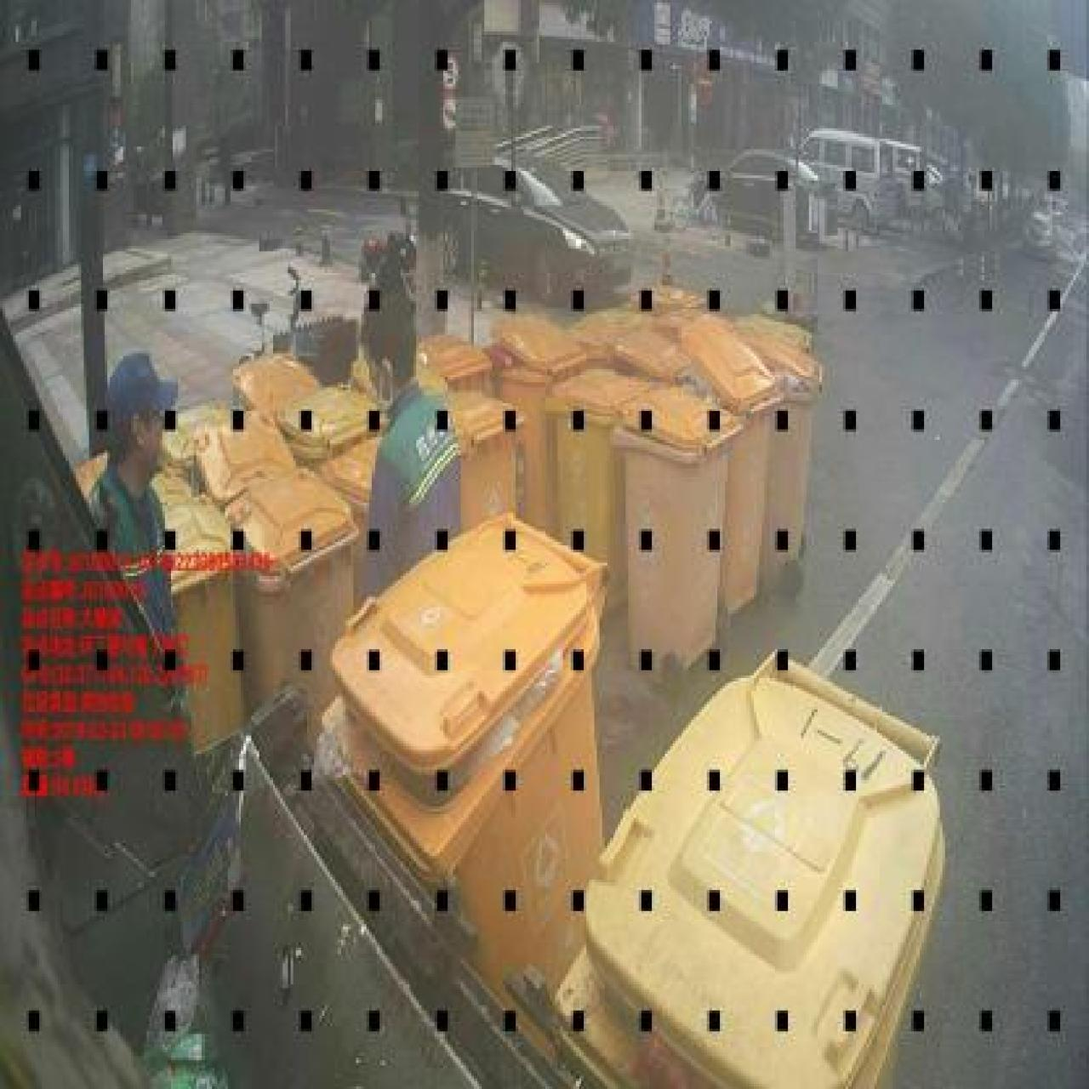bin_empty: (550, 657, 944, 1088), (332, 515, 607, 983), (612, 385, 740, 670), (225, 467, 357, 733), (680, 314, 781, 614), (546, 369, 651, 562), (165, 499, 242, 751), (448, 391, 522, 530)
vehicle: (438, 160, 632, 302), (719, 149, 823, 243), (802, 128, 895, 229)
